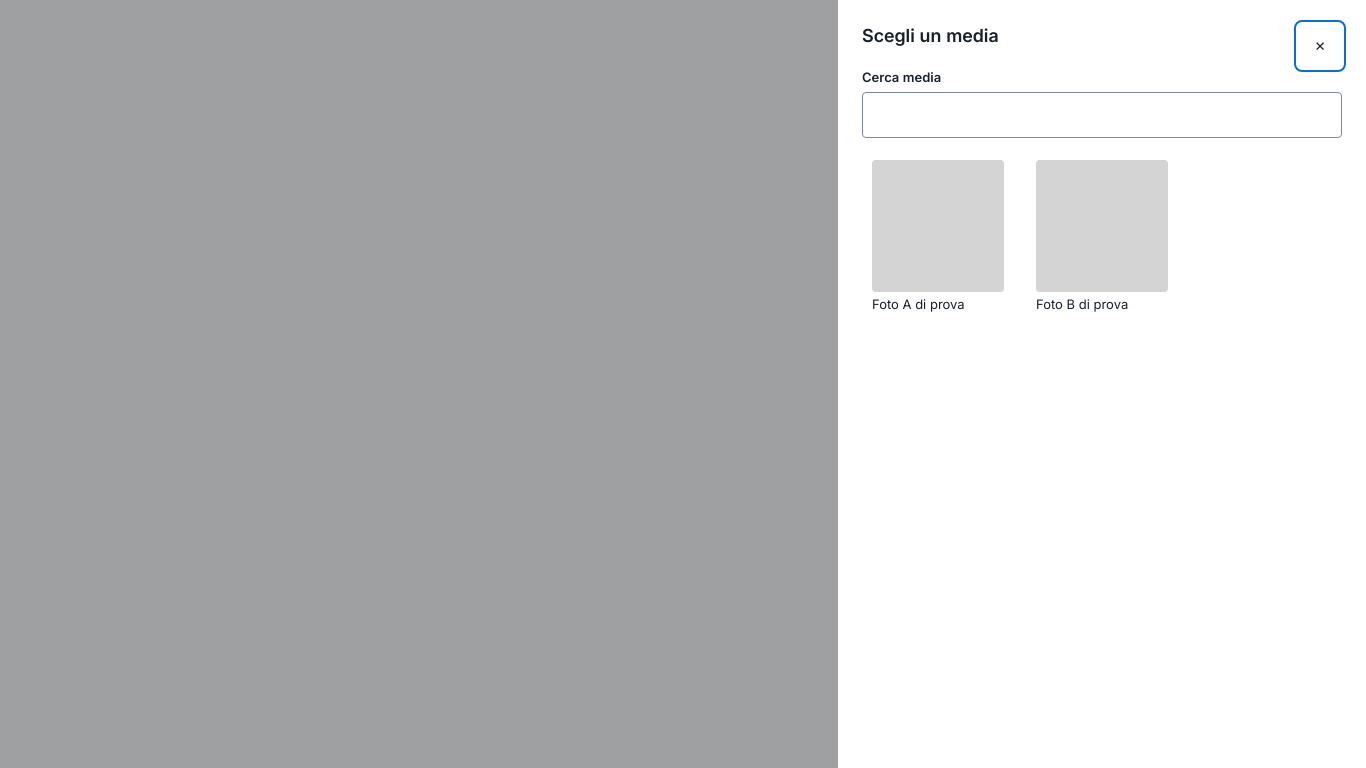
Scenario: W8-10: il selettore propone il testo alternativo del media › scelto un media con testo alternativo si conferma senza riscriverlo e il blocco non lo riceve
Later steps or results of the test are not shown.
Click the option "Foto A di prova".
click(938, 236)  # box [862,150,1014,322]
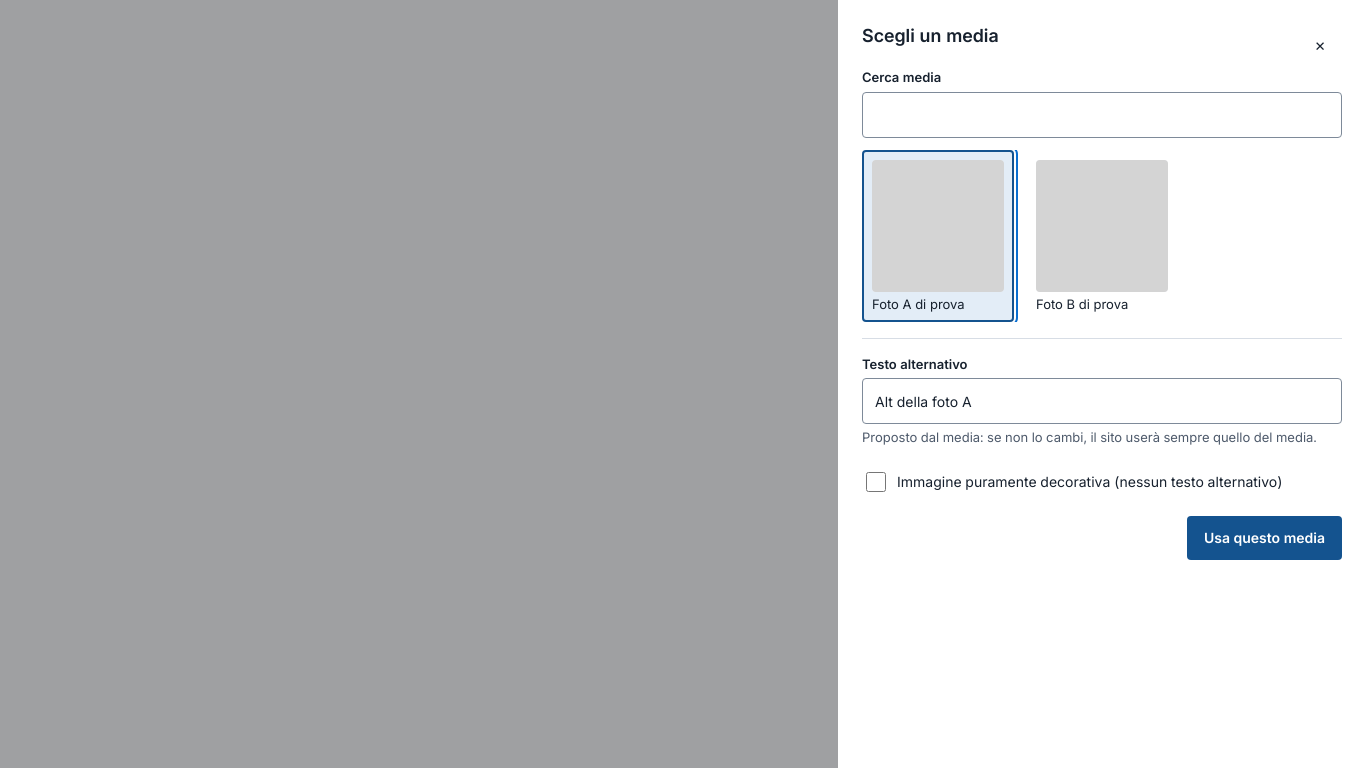
Result: the field labelled "Testo alternativo" holds "Alt della foto A" at [862,378,1342,424]
